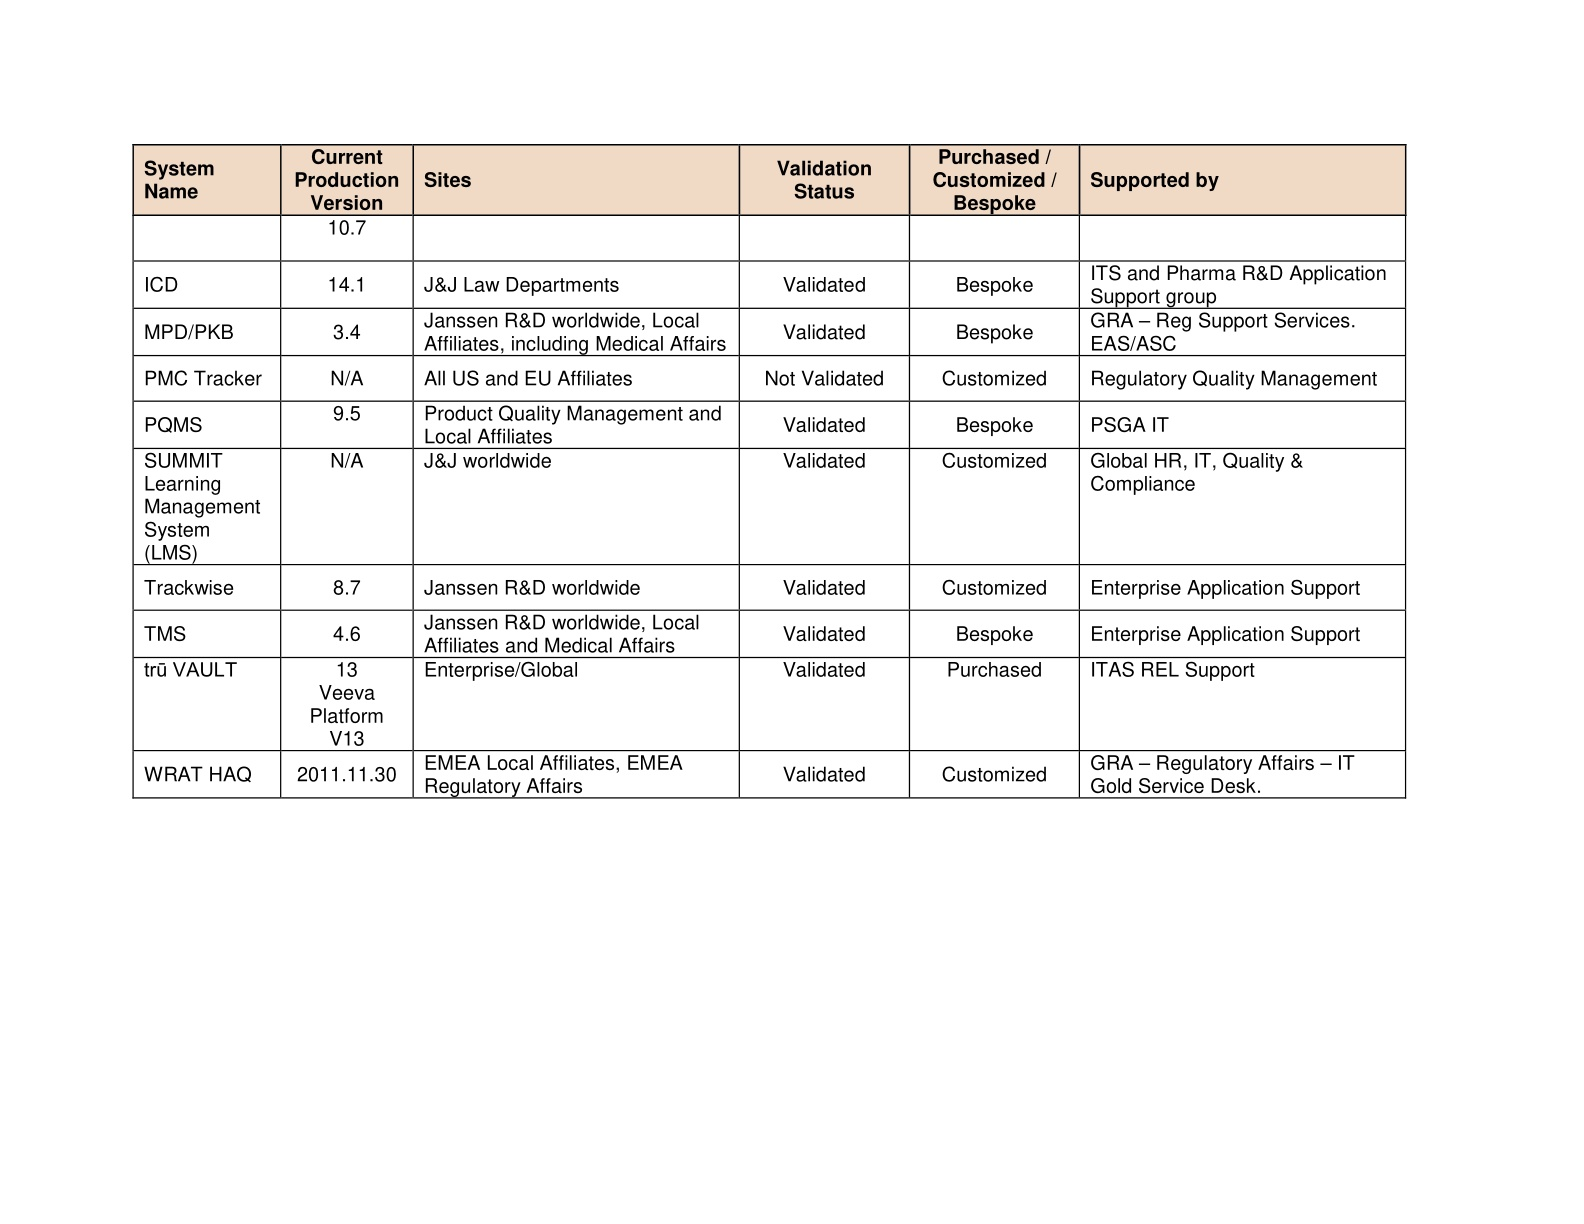full_lined: (131, 143, 1407, 800)
